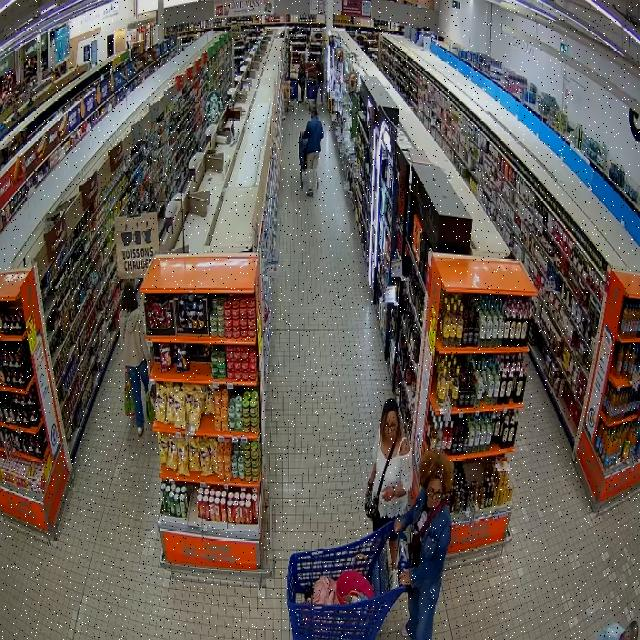bags: (365, 437, 397, 520)
hands: (399, 570, 410, 586), (381, 487, 393, 501), (369, 464, 376, 485), (394, 518, 402, 533)
person: (395, 451, 452, 639), (369, 398, 412, 531), (120, 282, 150, 435), (303, 106, 323, 196)
